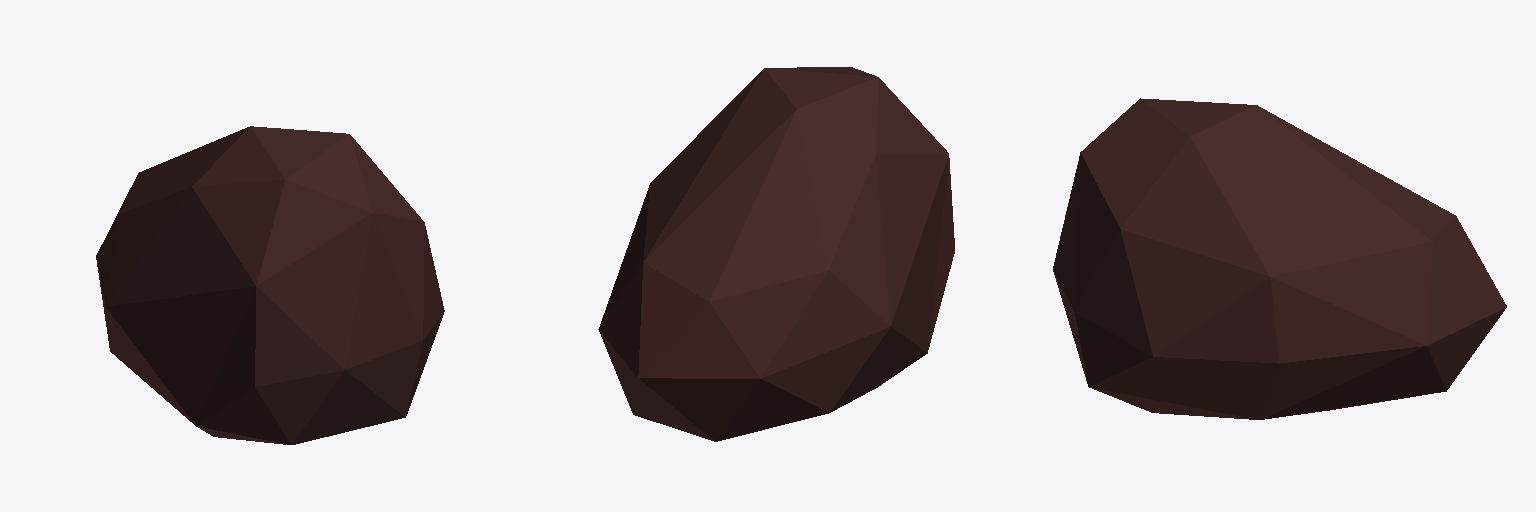
Rendered from rock.obj.
The picture shows the model from 3 angles: view 1: azimuth 30°, elevation 25°; view 2: azimuth 150°, elevation 25°; view 3: azimuth 270°, elevation 25°; orthographic projection.
Visible parts, largest first — view 1: Rock4.002_Icosphere.008; view 2: Rock4.002_Icosphere.008; view 3: Rock4.002_Icosphere.008.
Boxes of the visible parts, x1,y1,x2,y2 form: Rock4.002_Icosphere.008: [96, 126, 444, 444]; Rock4.002_Icosphere.008: [598, 67, 954, 441]; Rock4.002_Icosphere.008: [1053, 98, 1506, 419].
Bounding box in the file's own units: 0.8911 × 0.893 × 1.28.